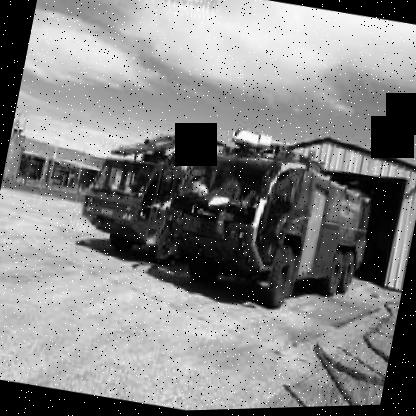emergency: (155, 108, 415, 341), (68, 108, 214, 277)
